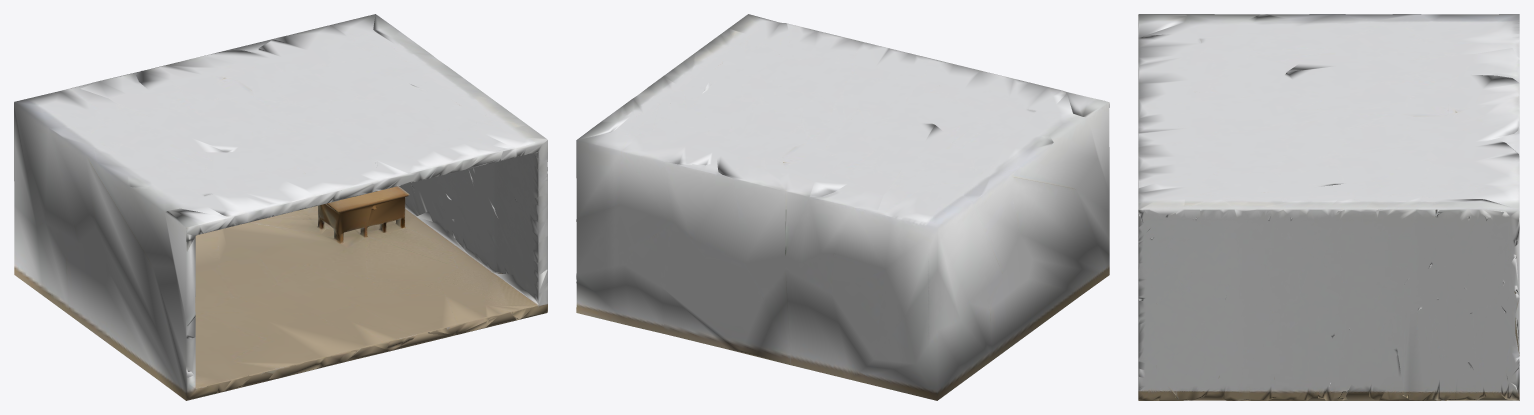
File: classroom-simple.glb
3 views of the same model, side by side, from view 1: azimuth 30°, elevation 25°; view 2: azimuth 150°, elevation 25°; view 3: azimuth 270°, elevation 25° (orthographic). The views are drawn at different scales.
Visible parts, largest first — view 1: Mesh_0.003; view 2: Mesh_0.003; view 3: Mesh_0.003.
Part boxes in pixels (x1=…): Mesh_0.003: x1=14, y1=14, x2=547, y2=400; Mesh_0.003: x1=576, y1=14, x2=1109, y2=400; Mesh_0.003: x1=1138, y1=14, x2=1519, y2=400.
Bounding box in the file's own units: 15.29 × 7 × 12.62.
1 material, 1 textured.
